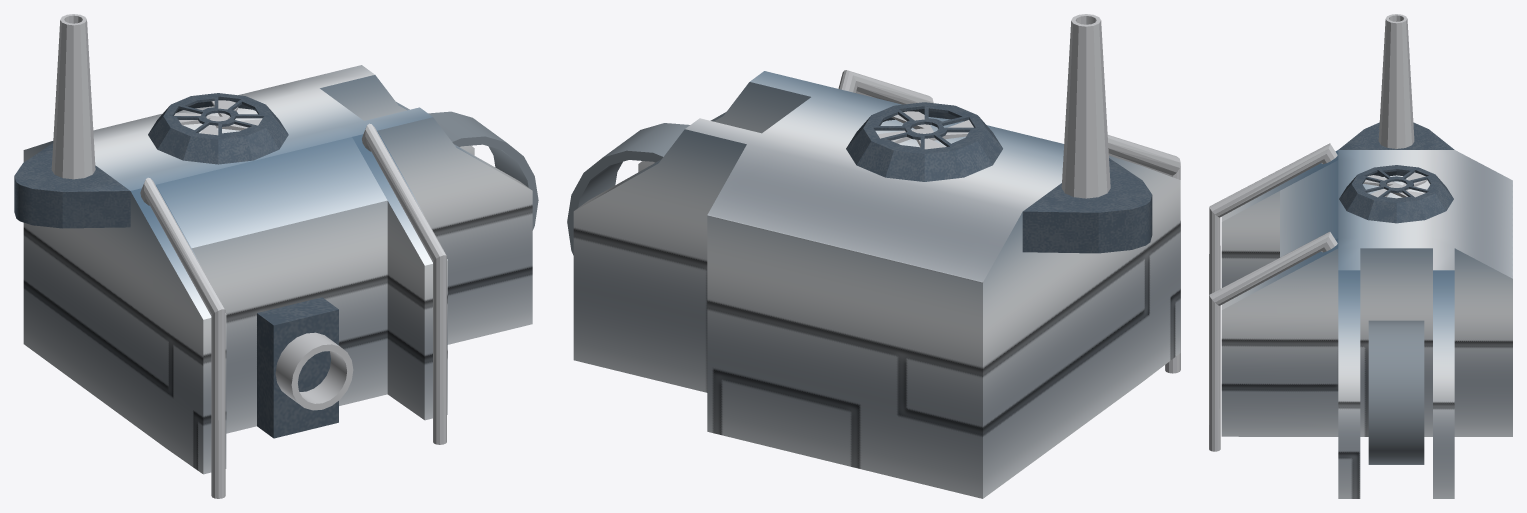
Rendered from Hydro Power Plant.fbx.
3 renders of one model, left to right at view 1: azimuth 30°, elevation 25°; view 2: azimuth 150°, elevation 25°; view 3: azimuth 270°, elevation 25°, orthographic. The views are drawn at different scales.
Visible parts, largest first — view 1: Base, Fan_Cover, Chimney, Pipe_2, Pipe_1, Pipe_Big, Wheel, Fan; view 2: Base, Fan_Cover, Chimney, Wheel, Pipe_2, Pipe_1, Fan; view 3: Base, Wheel, Fan_Cover, Chimney, Pipe_1, Pipe_2, Fan.
Part boxes in pixels (<box>): Base: <box>14,65,532,474</box>; Fan_Cover: <box>148,93,288,164</box>; Chimney: <box>51,14,95,179</box>; Pipe_2: <box>140,177,225,498</box>; Pipe_1: <box>362,123,446,444</box>; Pipe_Big: <box>275,332,353,410</box>; Wheel: <box>428,111,538,230</box>; Fan: <box>174,100,261,135</box>; Base: <box>573,71,1180,498</box>; Fan_Cover: <box>846,102,1002,181</box>; Chimney: <box>1061,14,1110,198</box>; Wheel: <box>567,123,689,255</box>; Pipe_2: <box>1107,135,1180,373</box>; Pipe_1: <box>838,70,933,104</box>; Fan: <box>877,111,973,149</box>; Base: <box>1221,122,1512,498</box>; Wheel: <box>1368,320,1424,464</box>; Fan_Cover: <box>1339,165,1453,223</box>; Chimney: <box>1378,14,1414,148</box>; Pipe_1: <box>1209,231,1337,451</box>; Pipe_2: <box>1209,143,1337,341</box>; Fan: <box>1363,172,1427,197</box>.
Size of the model in its own units: 8.15 by 6.24 by 5.22.
